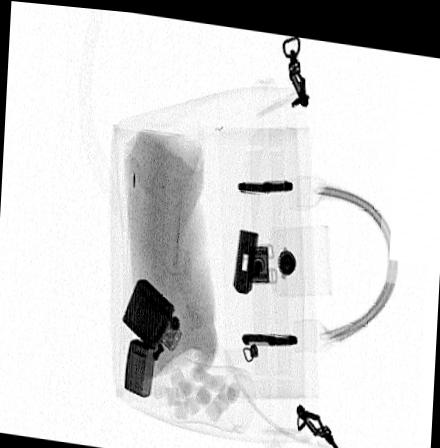Lighter: (122, 274, 183, 394)
